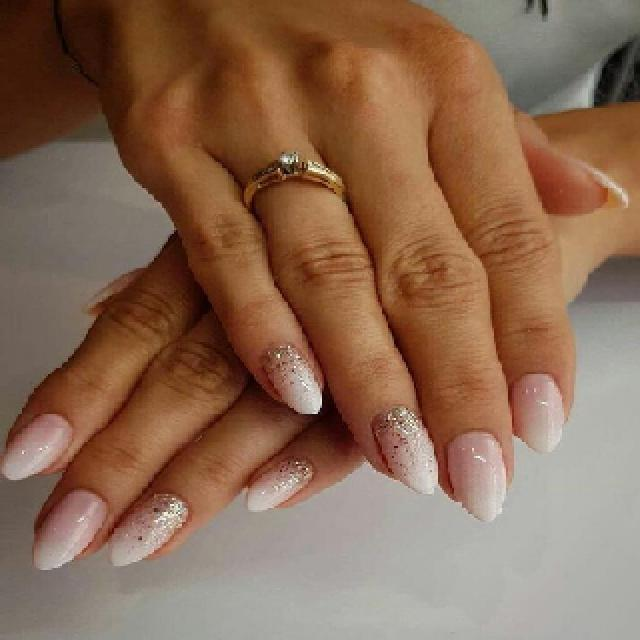Nail: (34, 489, 108, 570), (371, 406, 438, 494), (110, 492, 189, 566), (448, 431, 506, 521), (1, 414, 74, 480), (511, 374, 565, 452), (262, 345, 321, 414), (248, 459, 314, 511)
